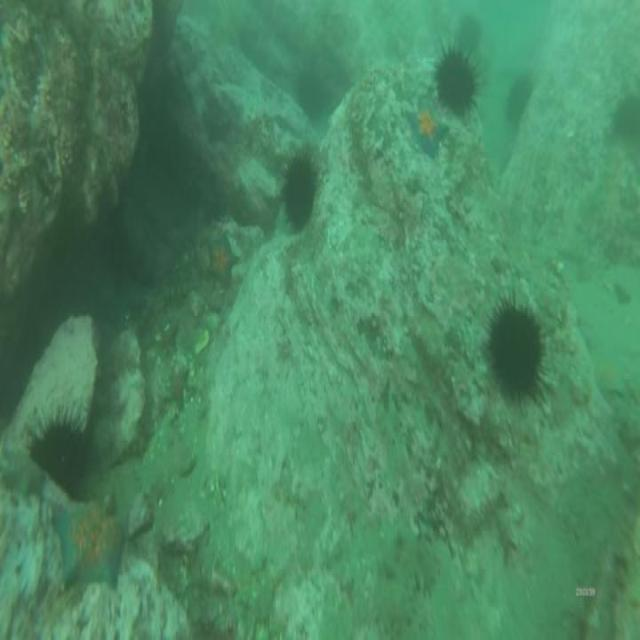echinus: (487, 305, 541, 398), (28, 427, 90, 490), (434, 52, 474, 111), (281, 162, 316, 228), (612, 87, 640, 137), (297, 71, 323, 114), (507, 73, 529, 123)
starfish: (55, 501, 121, 583), (405, 98, 449, 156), (208, 235, 234, 286), (169, 371, 192, 408)
